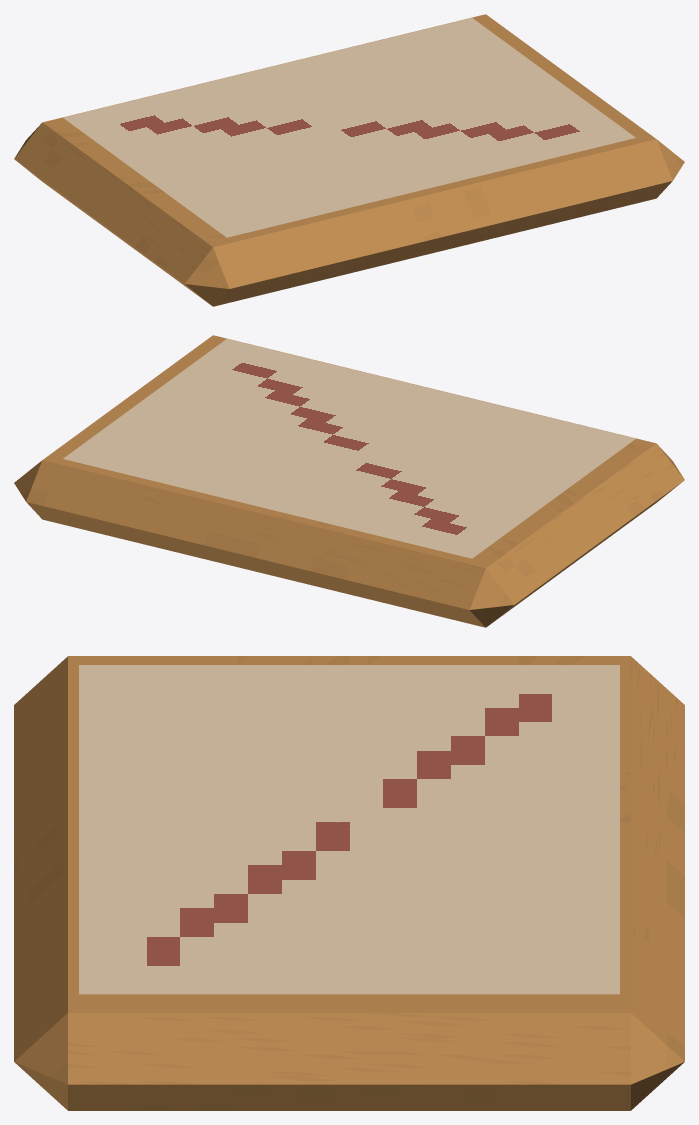
Rendered from toastem.glb.
The picture shows the model from 3 angles, top to bottom: view 1: azimuth 30°, elevation 25°; view 2: azimuth 150°, elevation 25°; view 3: azimuth 270°, elevation 25°; orthographic projection. The views are drawn at different scales.
Visible parts, largest first — view 1: block_frosting and sprinkles, block_baked pastry; view 2: block_frosting and sprinkles, block_baked pastry; view 3: block_frosting and sprinkles, block_baked pastry.
Boxes of the visible parts, x1,y1,x2,y2 form: block_frosting and sprinkles: (63,18,635,237); block_baked pastry: (14,14,684,306); block_frosting and sprinkles: (63,339,635,558); block_baked pastry: (14,335,684,627); block_frosting and sprinkles: (79,665,619,994); block_baked pastry: (14,656,684,1110).
Bounding box in the file's own units: 0.088 × 0.0105 × 0.062.
Materials: 1 (1 with a texture image).
